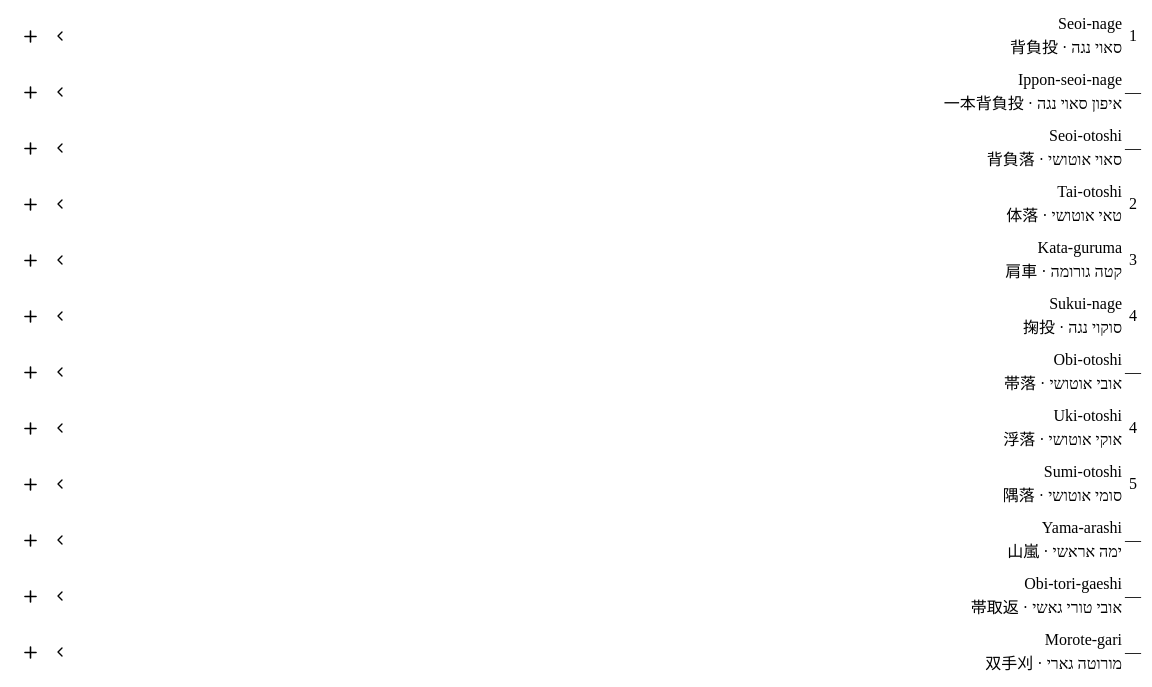
Test case: adding from the list › saves in one tap, without opening the technique
The width and height of the screenshot is (1152, 687).
Click the button with test id "add-tai-otoshi" at (30, 204), box [8,182,52,226]
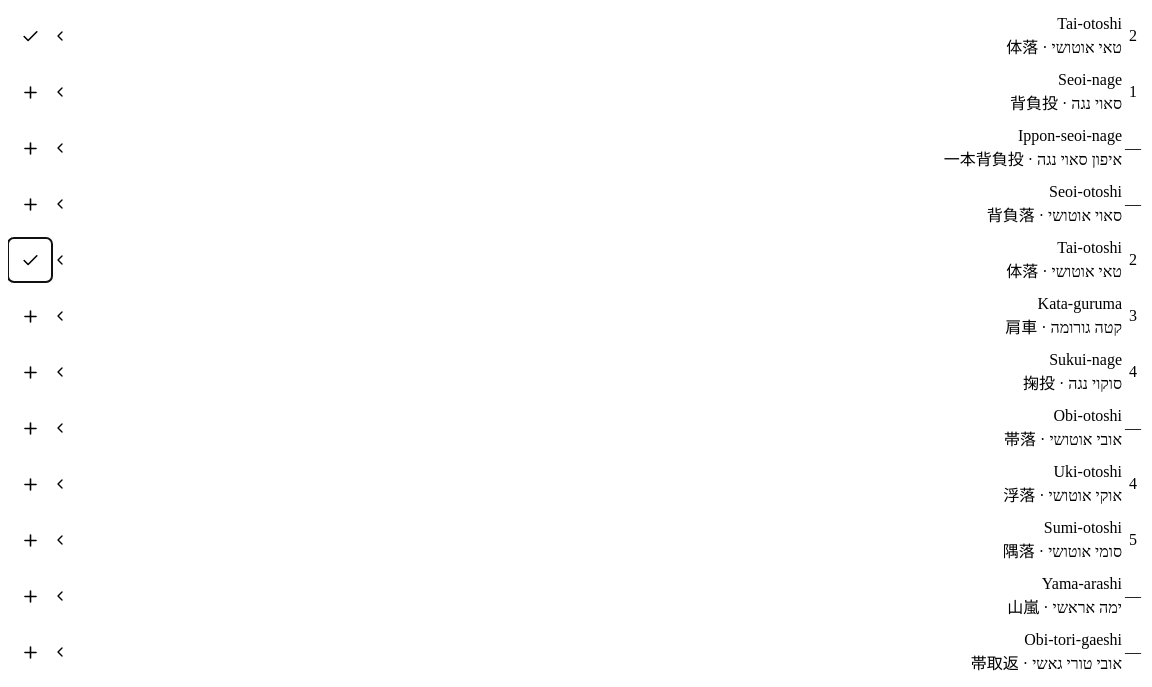
Expected: the element with test id "technique-row-tai-otoshi" showing "2 Tai-otoshi טאי אוטושי · 体落" is shown, [8,8,1144,64]
